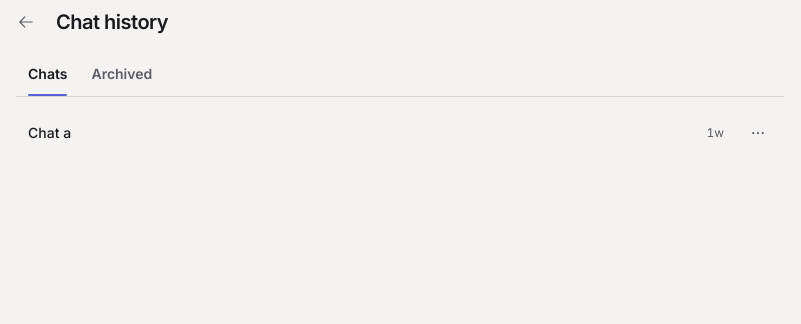
Test: moves chats between Chats and Archived without losing the other list
Click the button named "More actions for Chat a".
click(758, 133)  # box [736,111,780,155]
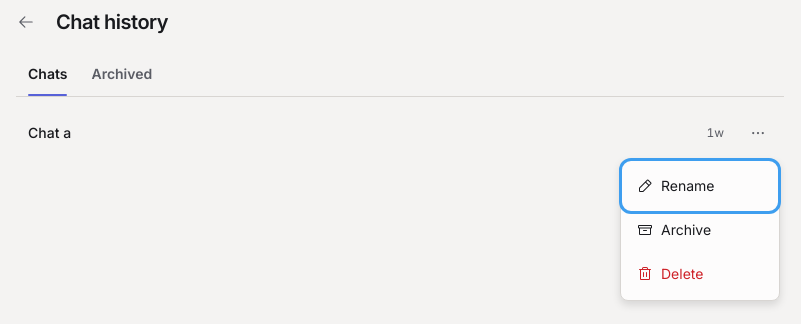
Click the menu item "Archive".
click(700, 230)  # box [625,208,775,252]
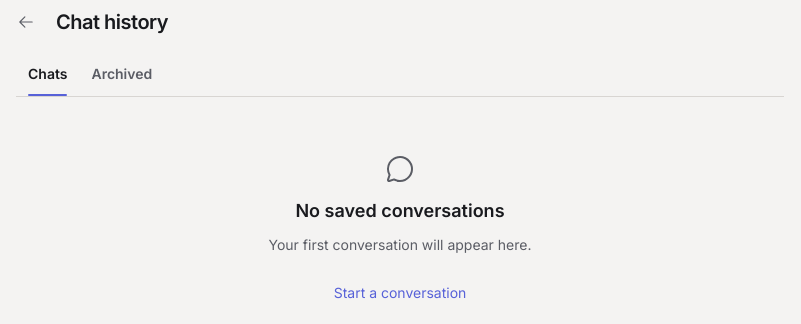
Check: the button "Chat a" is gone
Click the tab "Archived".
click(122, 74)  # box [80,52,164,96]
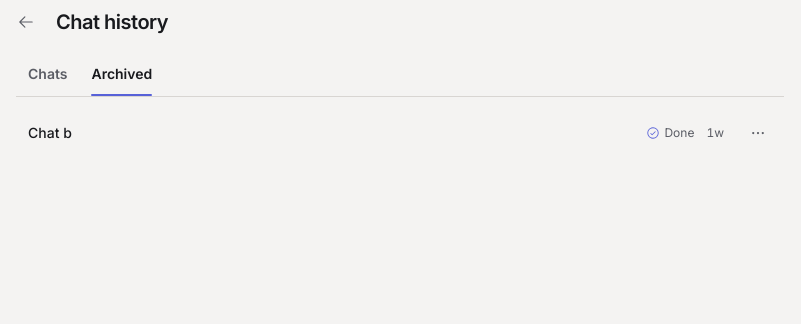
Check: the button "Chat b" is shown, box [20,111,638,155]
Click the button named "More actions for Chat b".
click(758, 133)  # box [736,111,780,155]
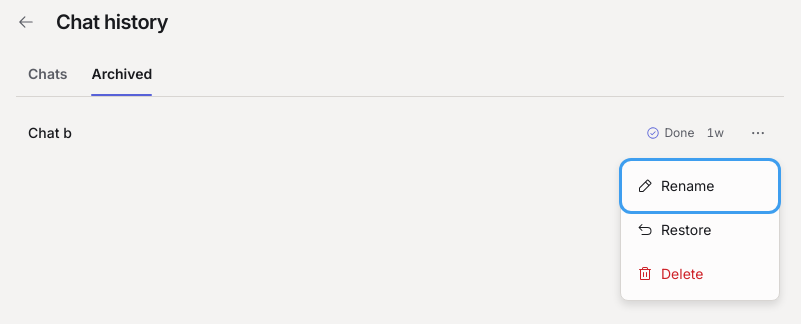
Click the menu item "Restore".
click(700, 230)  # box [625,208,775,252]
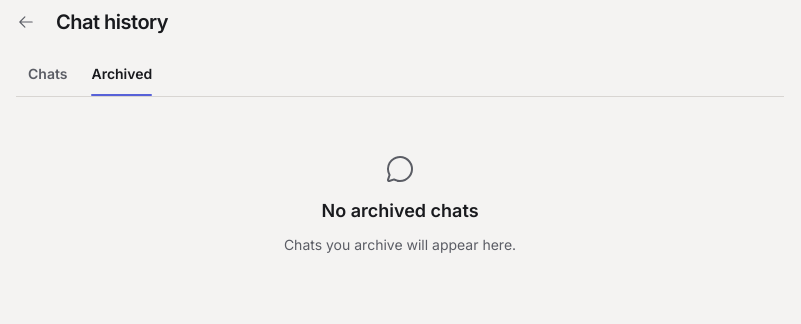
Check: the button "Chat b" is gone
